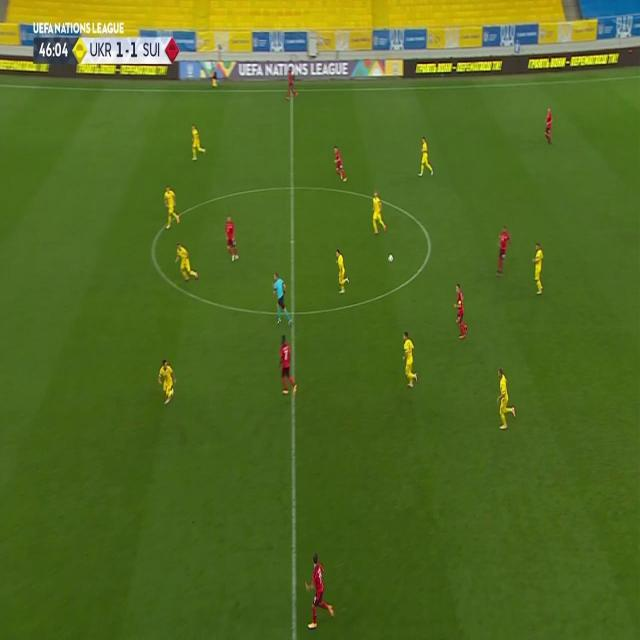ball: (388, 252, 394, 264)
player: (302, 550, 336, 628), (494, 366, 516, 431), (276, 333, 298, 395), (270, 271, 290, 325), (400, 330, 418, 388), (174, 241, 198, 282), (452, 282, 468, 340), (158, 359, 176, 405), (369, 188, 387, 234), (496, 225, 512, 276), (163, 185, 181, 228), (416, 135, 434, 177), (334, 247, 350, 294), (531, 241, 545, 294), (224, 214, 239, 262), (190, 123, 206, 160), (332, 144, 348, 181), (286, 62, 298, 100), (543, 107, 554, 145), (210, 60, 220, 88)
